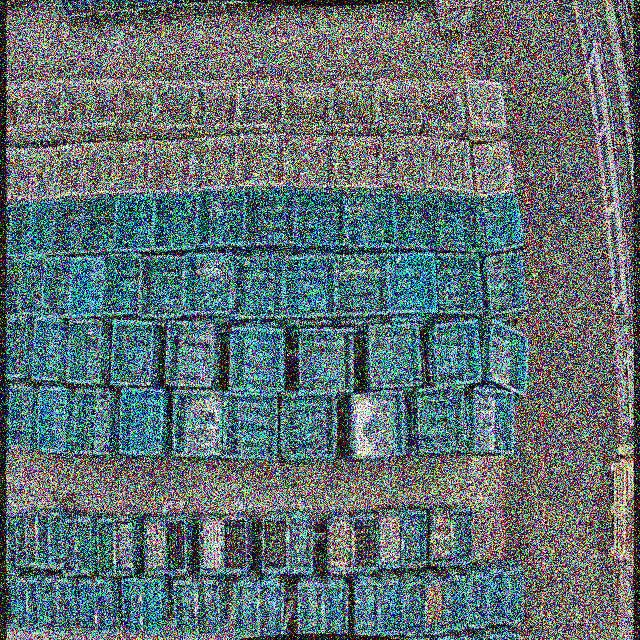Box: (366, 322, 424, 391), (228, 324, 285, 391), (351, 392, 407, 458), (166, 320, 218, 391), (224, 391, 277, 460), (282, 393, 337, 459), (415, 382, 466, 453), (300, 327, 354, 394), (431, 320, 483, 388), (487, 318, 530, 400), (335, 253, 389, 318), (436, 249, 485, 319), (469, 386, 517, 456), (230, 257, 285, 318), (283, 257, 338, 318), (386, 252, 439, 315), (245, 186, 295, 251), (173, 391, 222, 457), (295, 187, 347, 248), (438, 194, 488, 256), (184, 252, 231, 317), (426, 138, 475, 200), (140, 254, 187, 318), (111, 320, 156, 386), (484, 251, 528, 318), (384, 132, 430, 196), (197, 190, 246, 250), (346, 189, 395, 249), (393, 192, 442, 252), (120, 388, 163, 456), (334, 136, 384, 192), (375, 78, 424, 135), (481, 192, 525, 255), (237, 132, 285, 189), (152, 190, 197, 250), (421, 77, 466, 137), (101, 254, 143, 318), (472, 140, 517, 199), (287, 132, 334, 188), (332, 78, 378, 135), (285, 78, 332, 132), (192, 136, 236, 193), (195, 78, 239, 135), (75, 391, 112, 456), (154, 79, 196, 136), (238, 77, 284, 129), (466, 80, 505, 141), (118, 77, 156, 139), (68, 319, 104, 383), (151, 137, 192, 193), (113, 142, 153, 195), (70, 257, 103, 319), (33, 317, 64, 382), (79, 142, 117, 195), (116, 195, 153, 249), (81, 196, 116, 251), (38, 388, 68, 452), (60, 81, 91, 142), (88, 79, 119, 139), (52, 144, 84, 199), (52, 197, 83, 253), (8, 385, 34, 451), (42, 258, 71, 314), (402, 507, 427, 571), (36, 80, 62, 141), (27, 197, 55, 253), (263, 512, 288, 574), (328, 512, 353, 574), (428, 502, 452, 566), (289, 513, 314, 573), (17, 82, 42, 142), (199, 517, 224, 575), (223, 513, 248, 571), (10, 146, 36, 201), (355, 514, 379, 573), (164, 514, 187, 575), (355, 581, 380, 637), (29, 147, 57, 197), (379, 509, 402, 569), (297, 582, 324, 633), (19, 259, 44, 314), (234, 583, 258, 640), (450, 508, 473, 567), (195, 581, 220, 634), (7, 315, 28, 378), (143, 515, 165, 575), (380, 581, 403, 638), (259, 581, 283, 635), (97, 517, 118, 578), (8, 203, 31, 257), (404, 582, 426, 637), (426, 580, 448, 635), (324, 584, 348, 634), (139, 580, 161, 634), (174, 582, 196, 636), (116, 516, 136, 575), (121, 580, 142, 634), (79, 581, 98, 637), (448, 577, 468, 630), (62, 516, 79, 578), (95, 580, 113, 635), (508, 569, 526, 624), (488, 570, 506, 624), (470, 575, 488, 628), (56, 578, 73, 634), (44, 579, 60, 637), (49, 510, 64, 570), (7, 85, 22, 145), (6, 260, 22, 316), (78, 518, 93, 576), (6, 515, 19, 575), (26, 580, 40, 635), (28, 510, 40, 569), (17, 578, 29, 633), (39, 510, 50, 570), (17, 512, 29, 564), (6, 576, 15, 630)
